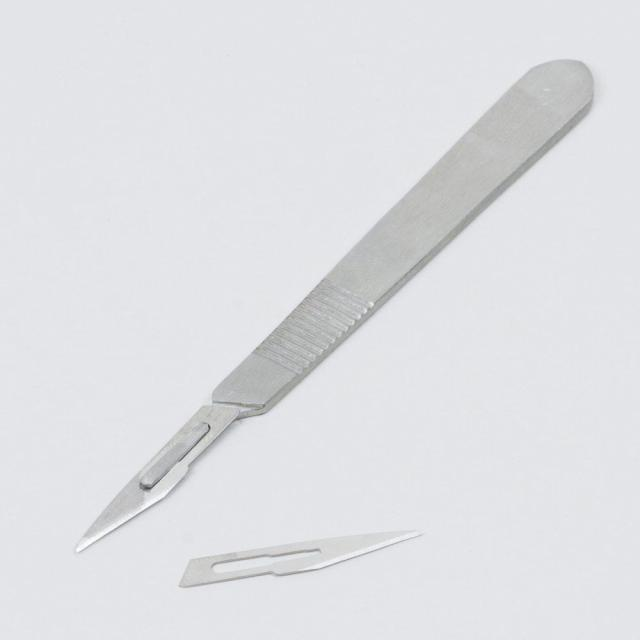Scalpel: (68, 55, 600, 562), (177, 521, 426, 594)
